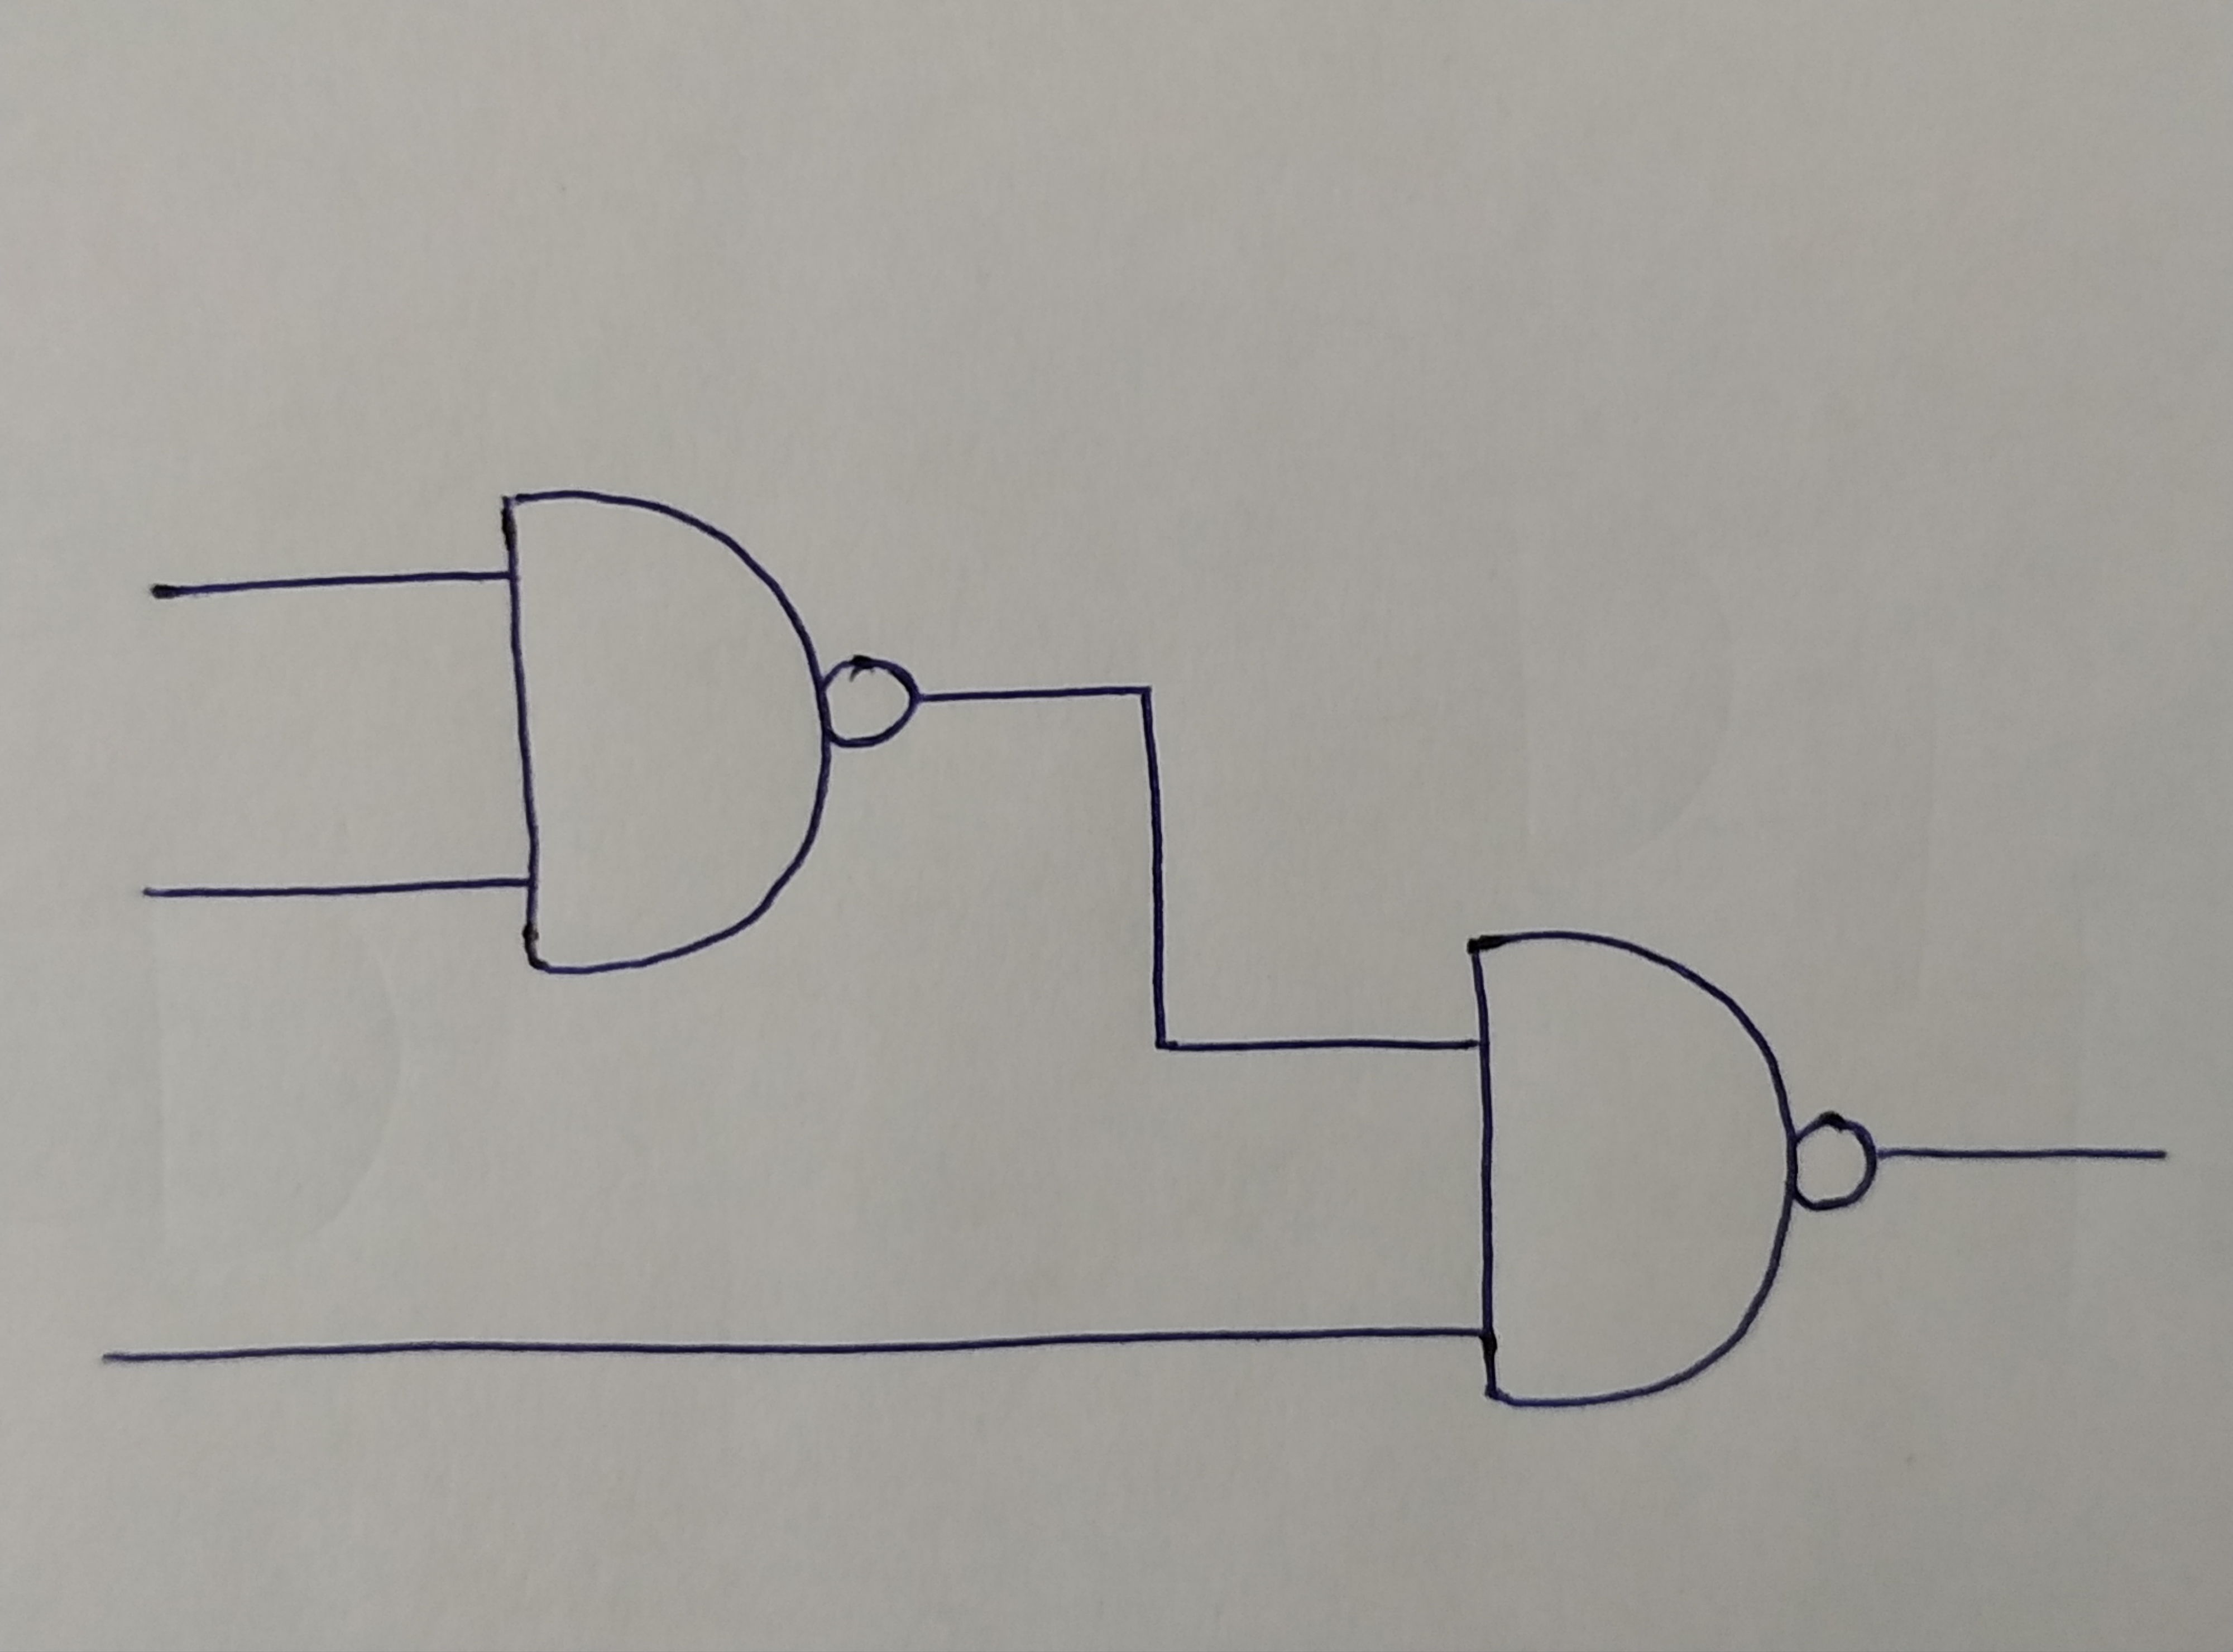and: (503, 489, 829, 979), (1470, 928, 1787, 1406)
not: (824, 659, 911, 750), (1796, 1118, 1872, 1213)
